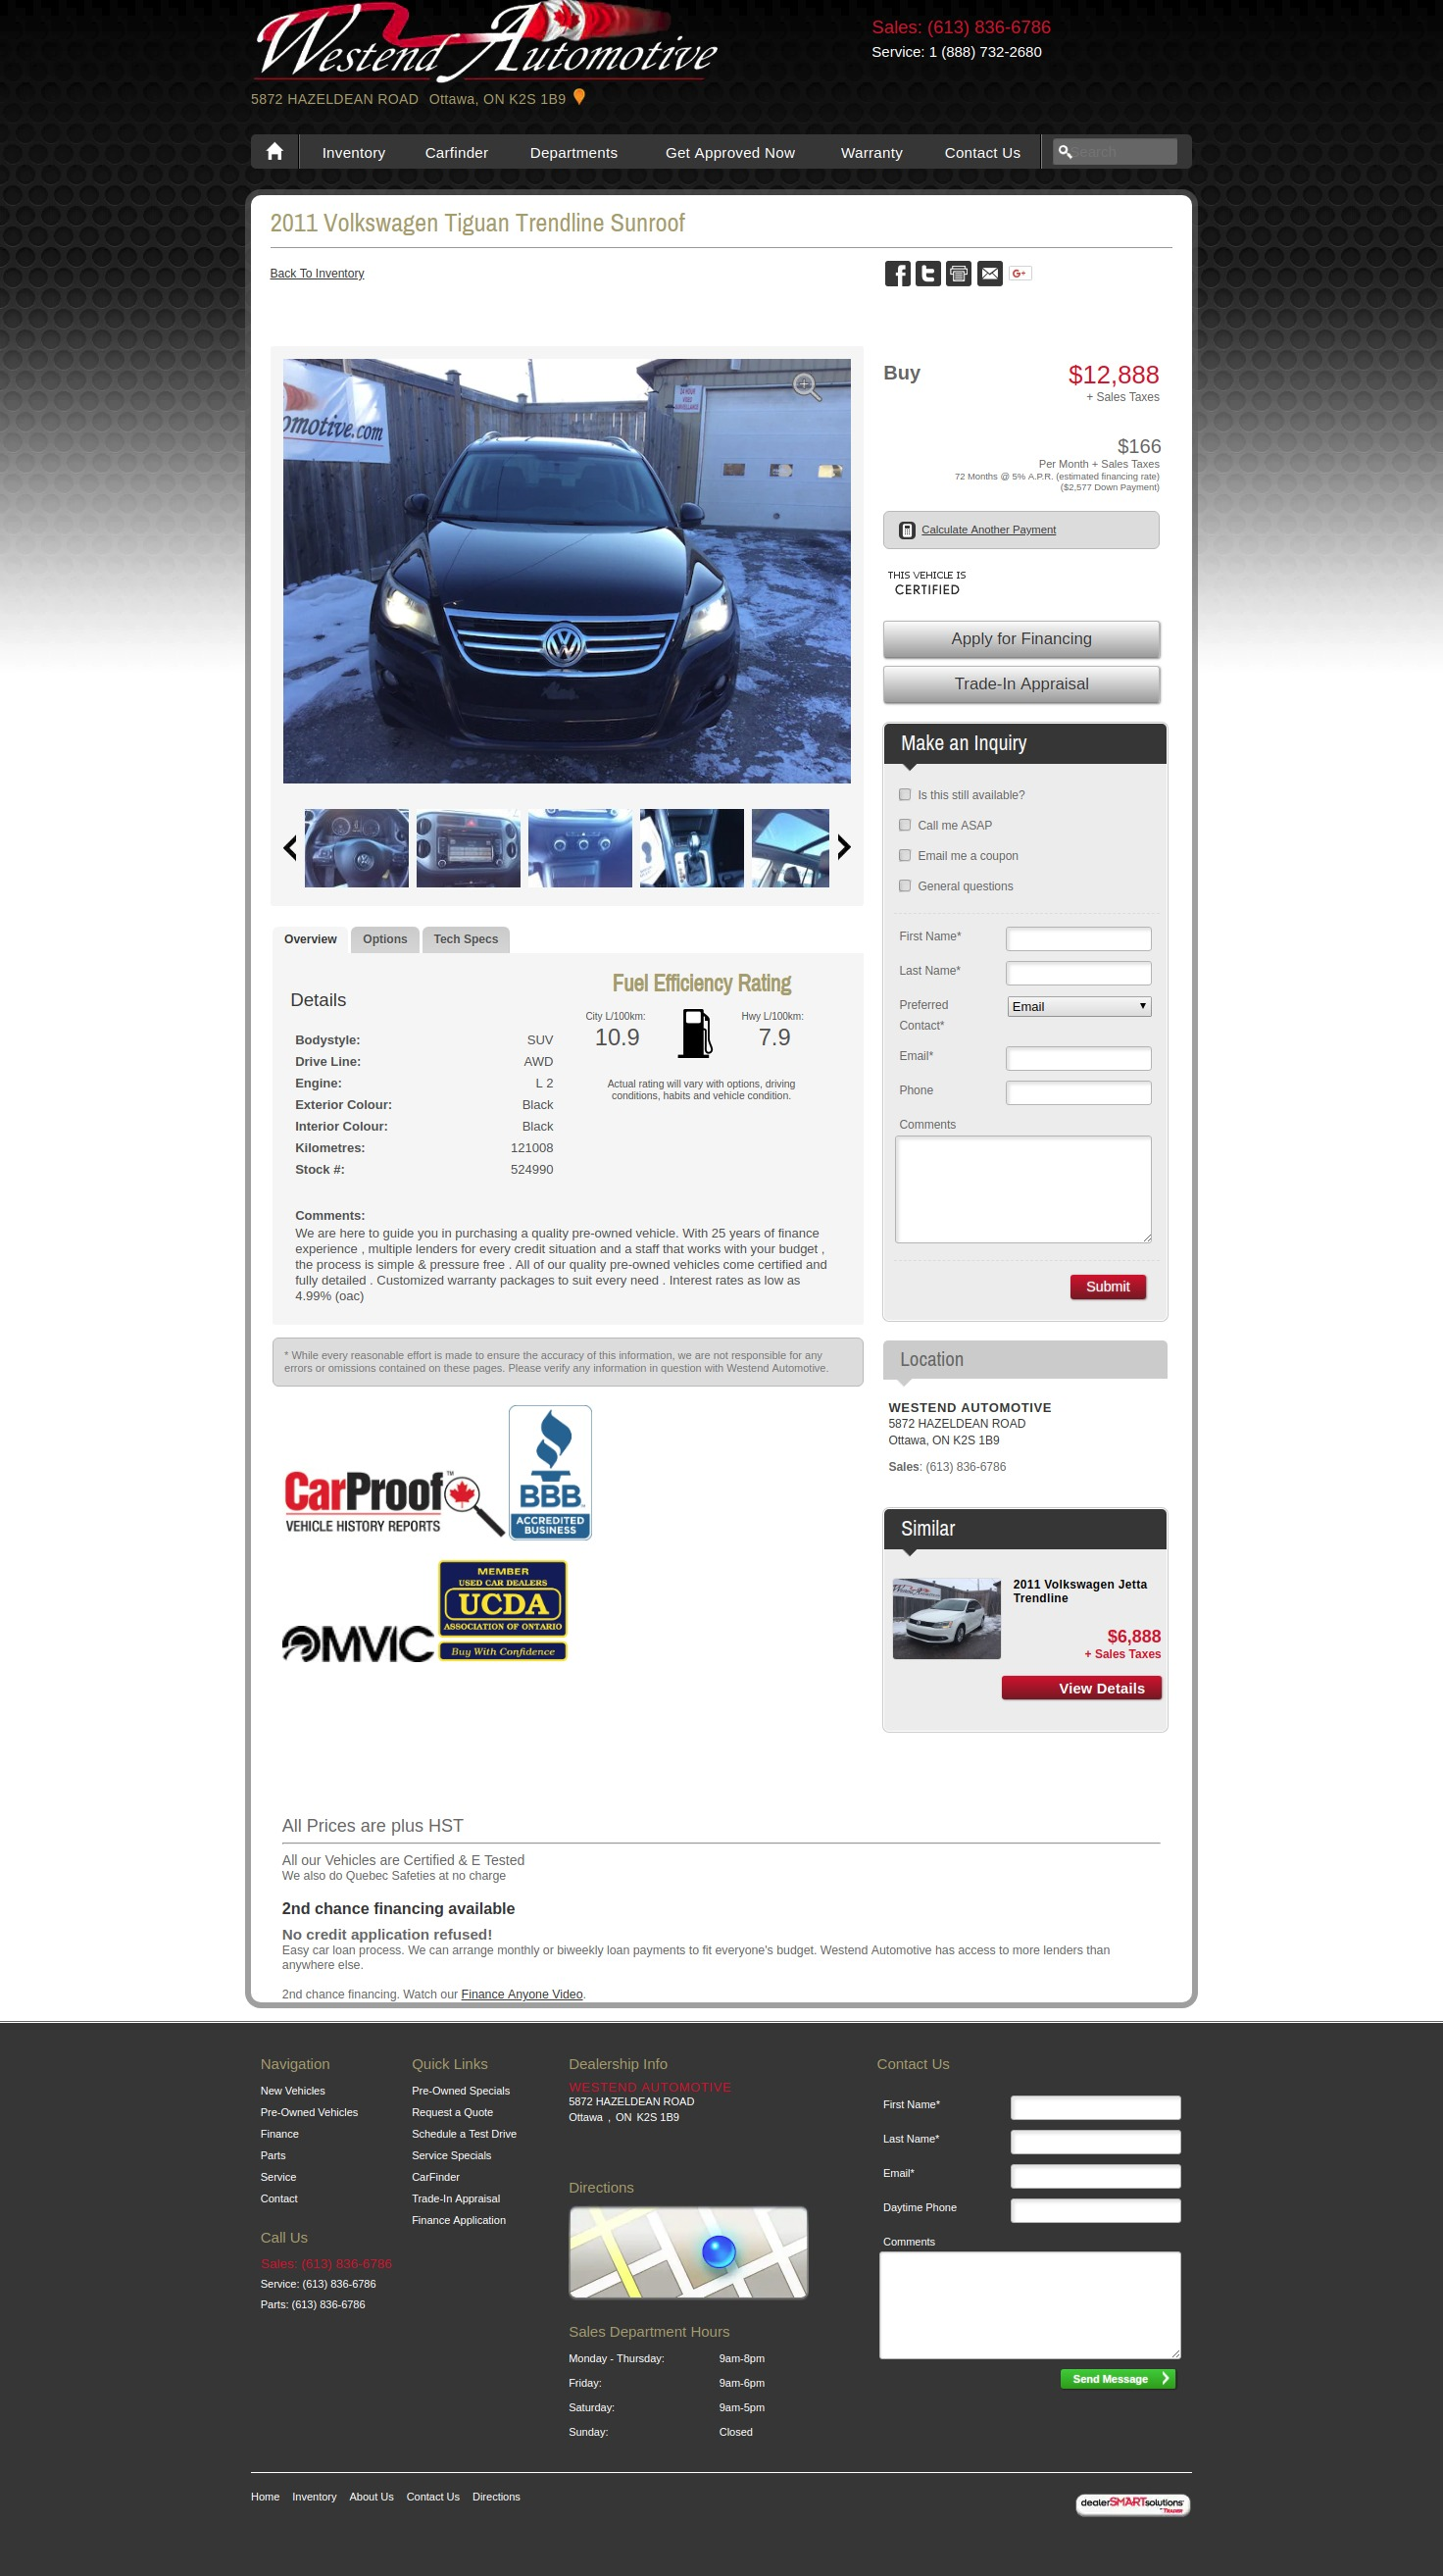car: (838, 835, 852, 862)
